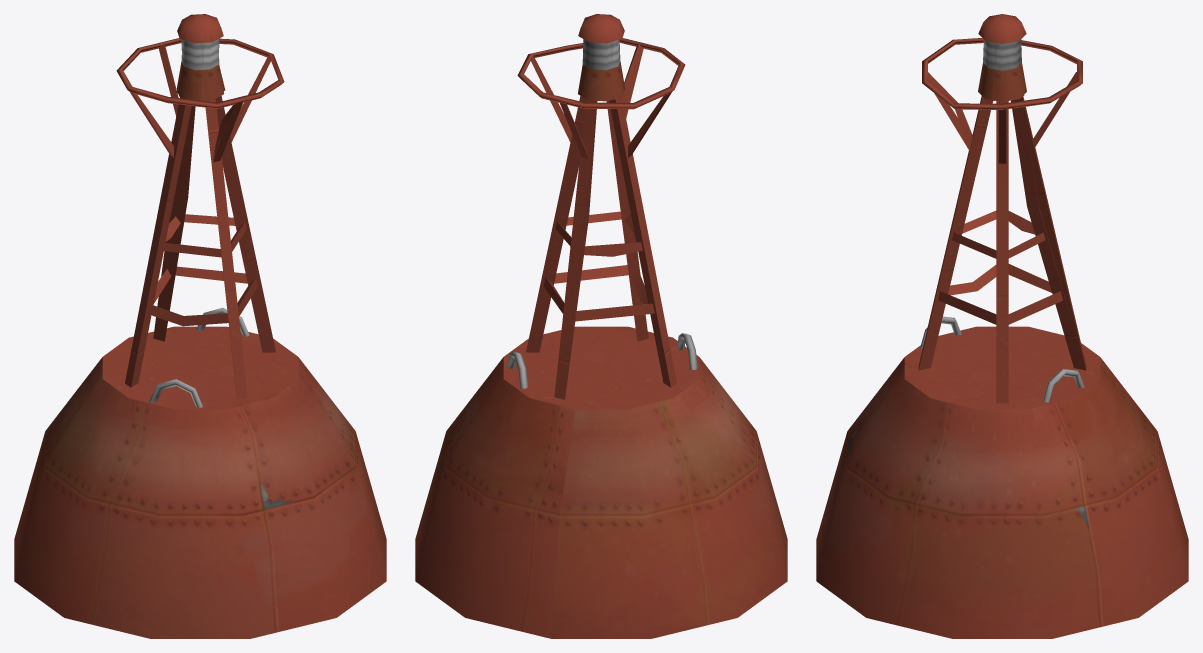
The model's file is buoy.fbx.
3 views of the same model, side by side, from view 1: azimuth 30°, elevation 25°; view 2: azimuth 150°, elevation 25°; view 3: azimuth 270°, elevation 25° (orthographic).
Visible parts, largest first — view 1: GEOM0_LOD0; view 2: GEOM0_LOD0; view 3: GEOM0_LOD0.
Part boxes in pixels (x1,y1,x2,y2): GEOM0_LOD0: (14, 14, 386, 638); GEOM0_LOD0: (415, 14, 787, 638); GEOM0_LOD0: (816, 14, 1188, 638).
Size of what is drawn, in the model's own units: 234 by 378 by 234.
1 material, 1 textured.
